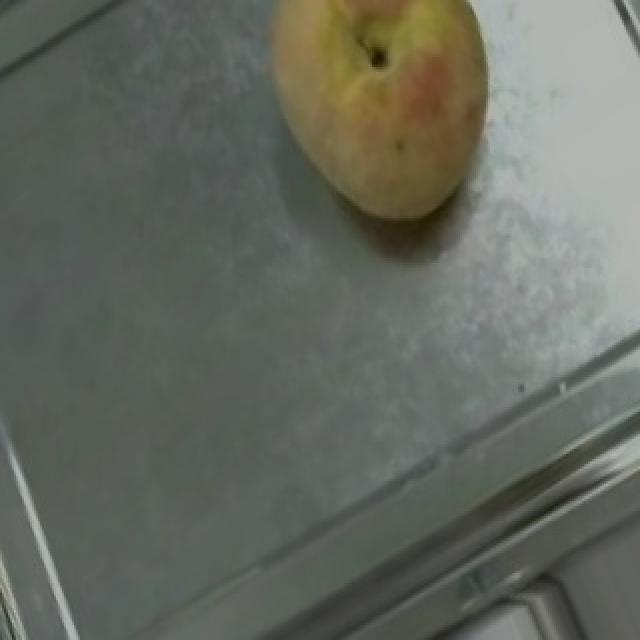Fruit: (224, 0, 536, 258)
